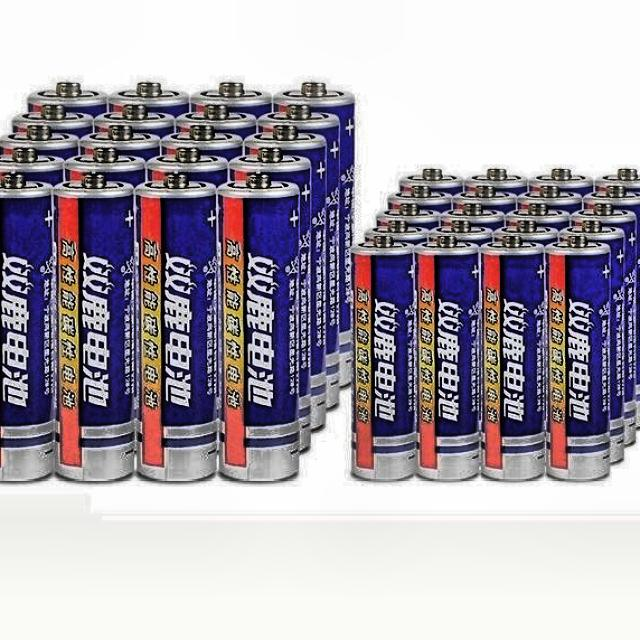Non-Valuable Waste - Batteries: (0, 81, 353, 481), (354, 166, 640, 480)
